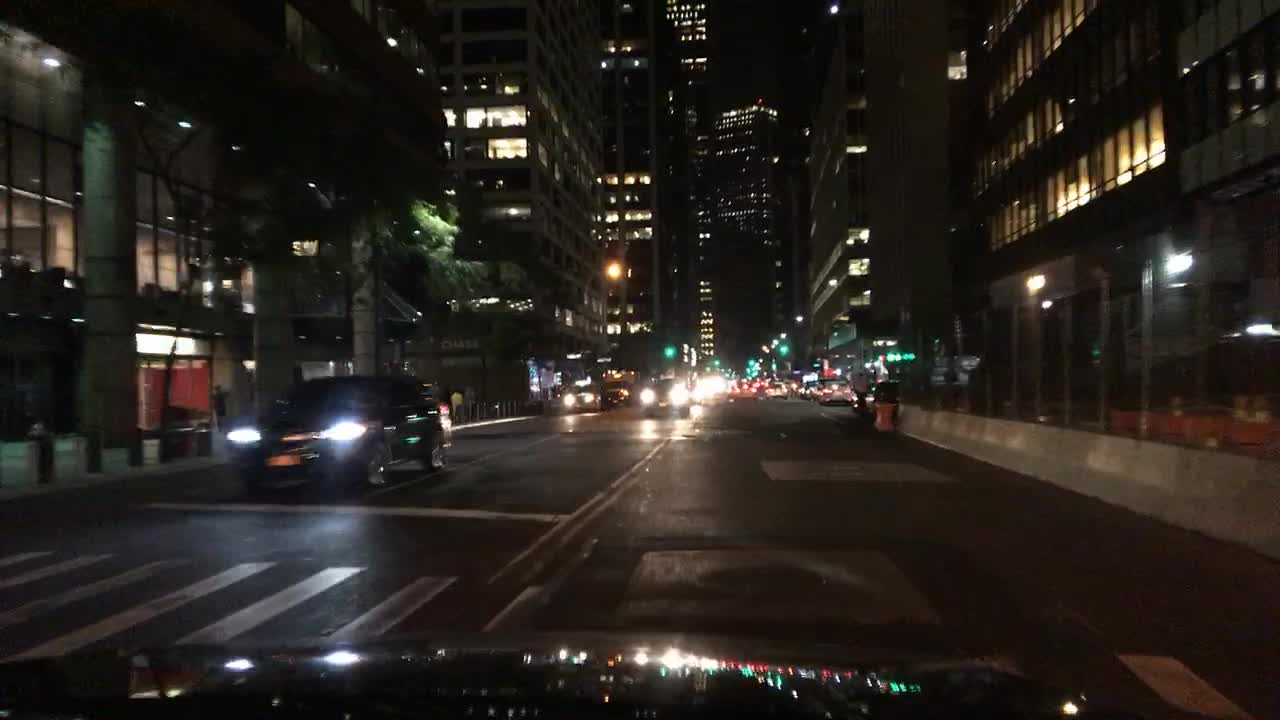car: (225, 374, 454, 498), (638, 376, 692, 422), (855, 380, 903, 415), (554, 383, 600, 412), (693, 375, 728, 399), (820, 381, 852, 406), (600, 383, 633, 404), (812, 376, 838, 399), (764, 380, 787, 397), (733, 379, 756, 395), (798, 379, 810, 394), (811, 380, 820, 393)
person: (209, 383, 227, 429)
traffic light: (664, 340, 675, 358), (748, 354, 759, 366), (779, 343, 789, 356), (713, 357, 722, 370)
